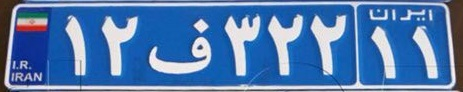1: (407, 22, 443, 84), (62, 10, 92, 80), (368, 22, 400, 83)
2: (96, 11, 142, 79), (307, 10, 351, 79), (264, 9, 307, 79)
3: (218, 10, 265, 81)
ف: (142, 14, 217, 81)
